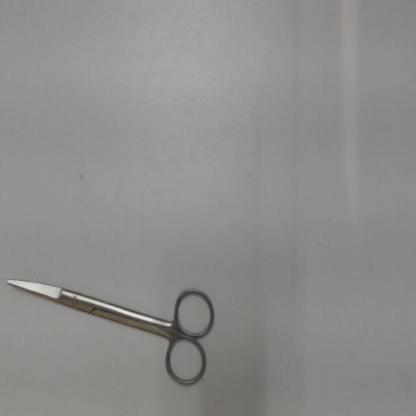Curved Mayo Scissors: (4, 274, 222, 396)
